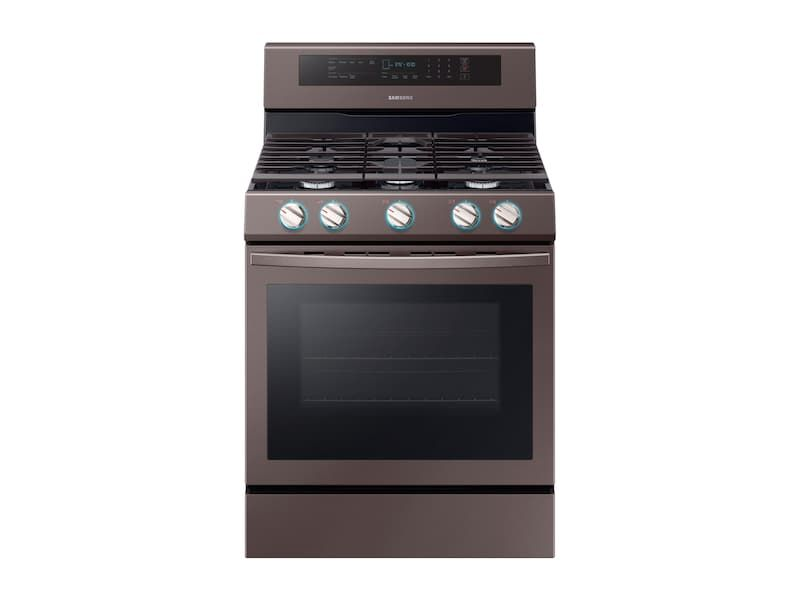stove: (247, 40, 569, 574)
